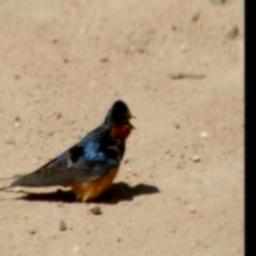Swallow: (0, 98, 137, 199)
